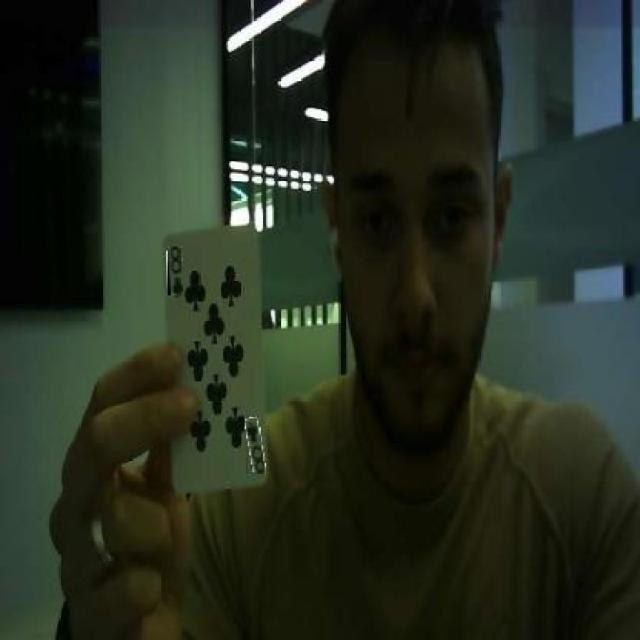8C: (246, 417, 265, 474), (168, 247, 183, 296)
